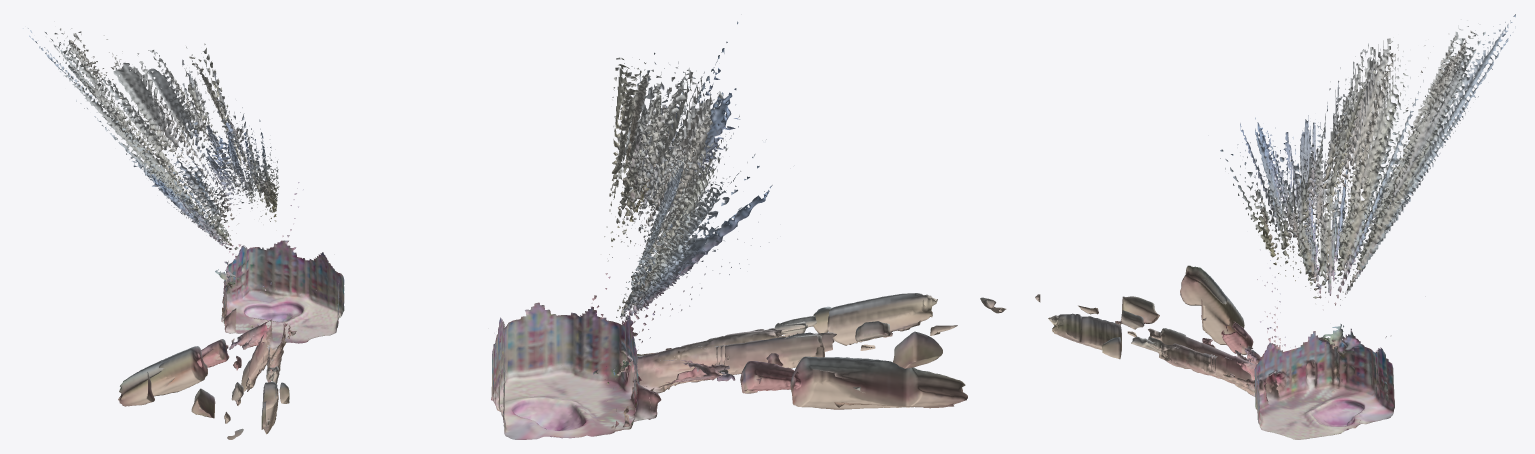
The model's file is heart-pool-1-1-1004_collider.glb.
3 renders of one model, left to right at view 1: azimuth 30°, elevation 25°; view 2: azimuth 150°, elevation 25°; view 3: azimuth 270°, elevation 25°, orthographic. The views are drawn at different scales.
Visible parts, largest first — view 1: world; view 2: world; view 3: world.
Boxes of the visible parts, <box> form: world: <box>23,28,344,439</box>; world: <box>491,21,1006,439</box>; world: <box>1035,14,1515,439</box>.
Bounding box in the file's own units: 23.81 × 23.61 × 32.41.
